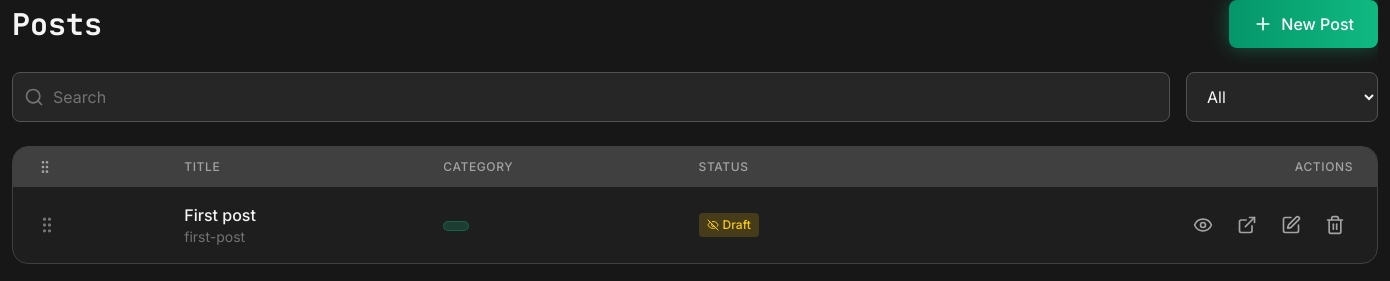
AdminPosts › blocks the publish toggle while its request is in flight
The width and height of the screenshot is (1390, 281).
Click the button titled "Publish".
click(1203, 225)  # box [1185, 207, 1221, 243]
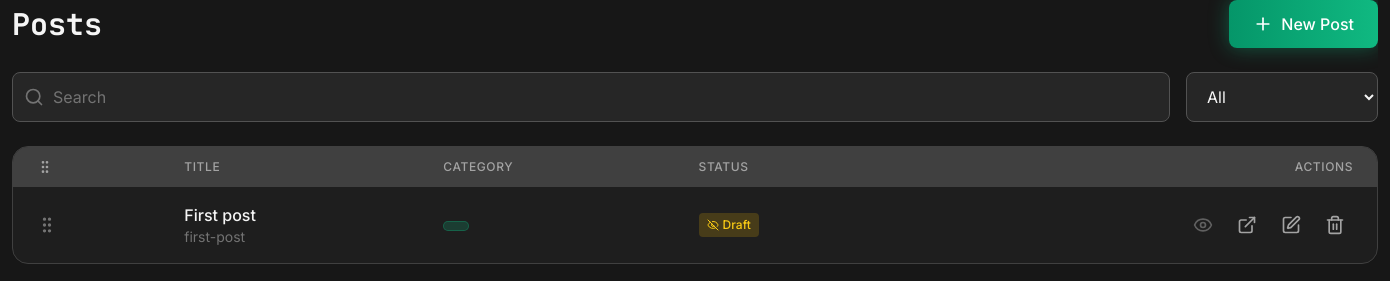
Expected: the button titled "Publish" is disabled
Click the button titled "Publish".
click(1203, 225)  # box [1185, 207, 1221, 243]
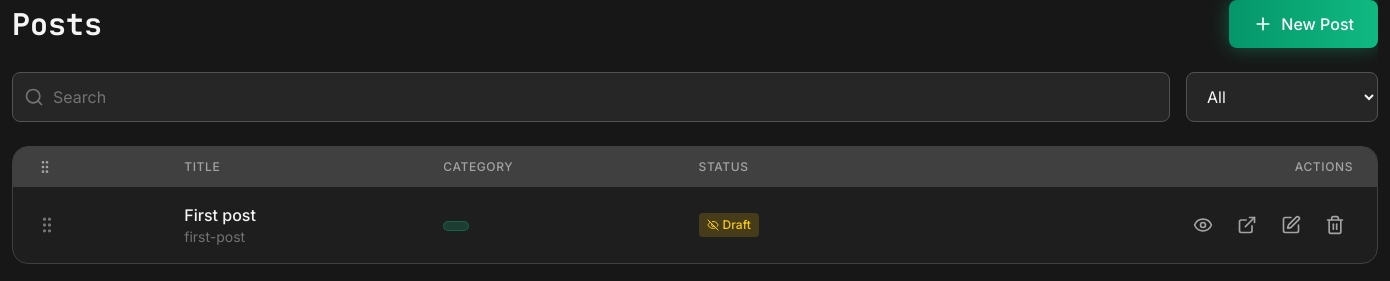
Expected: the button titled "Publish" is enabled, [1185, 207, 1221, 243]
